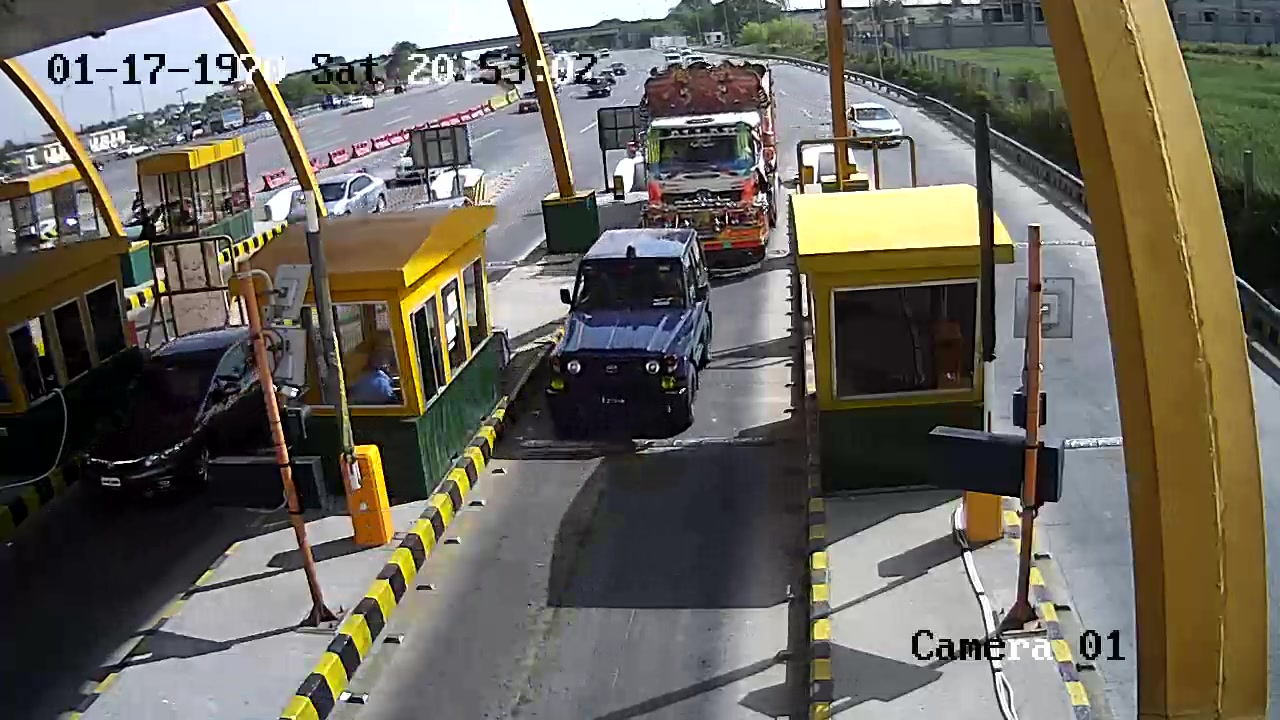F1: (545, 225, 705, 435)
